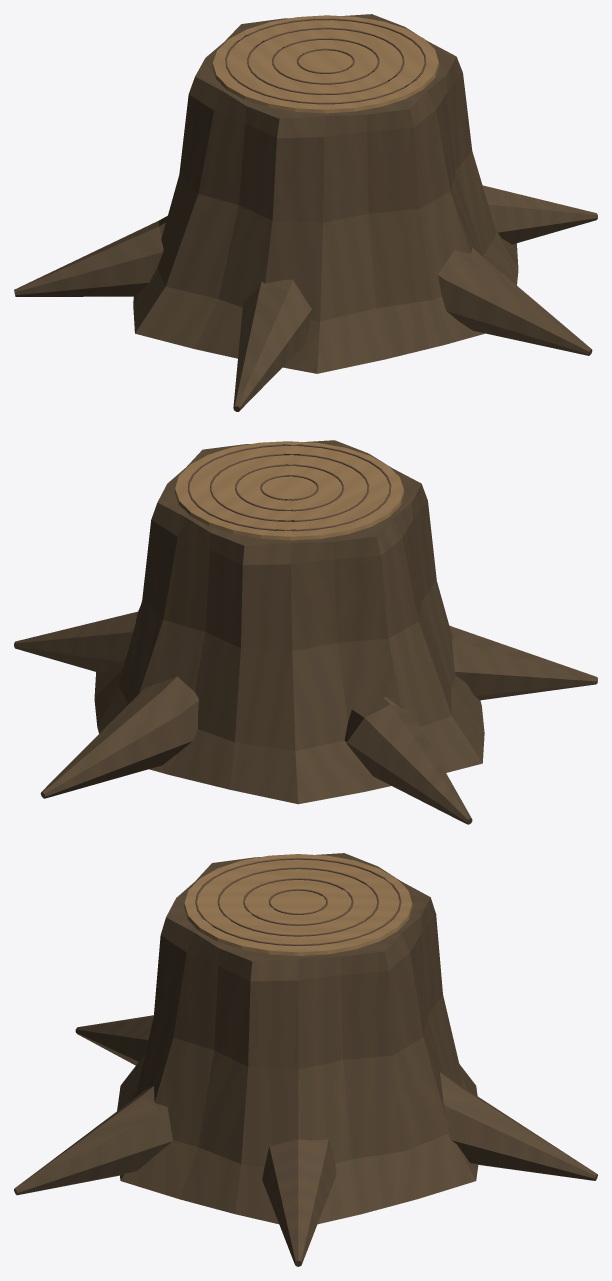
File: NA_Stump.glb
The picture shows the model from 3 angles, top to bottom: view 1: azimuth 30°, elevation 25°; view 2: azimuth 150°, elevation 25°; view 3: azimuth 270°, elevation 25°; orthographic projection. The views are drawn at different scales.
Visible parts, largest first — view 1: NA_Stump; view 2: NA_Stump; view 3: NA_Stump.
Part boxes in pixels (<box>): NA_Stump: <box>14,14,597,411</box>; NA_Stump: <box>14,440,597,824</box>; NA_Stump: <box>14,853,597,1266</box>.
Bounding box in the file's own units: 0.9559 × 0.4027 × 0.913.
3 materials, 3 textured.
